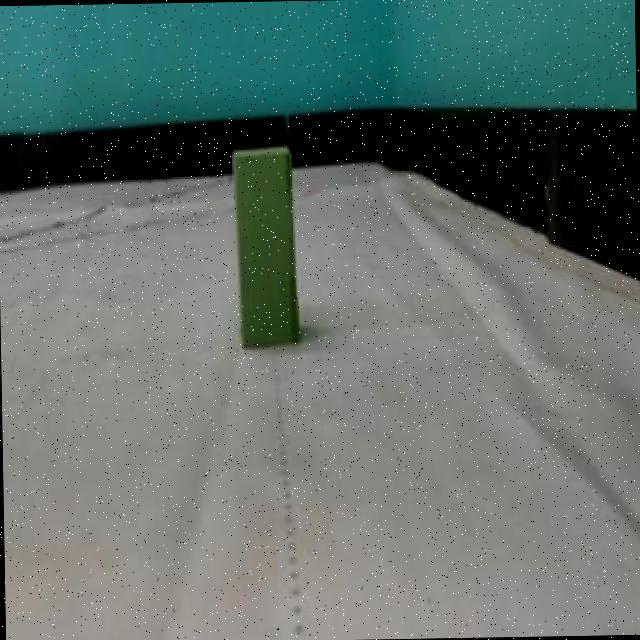greenbox: (225, 146, 302, 350)
